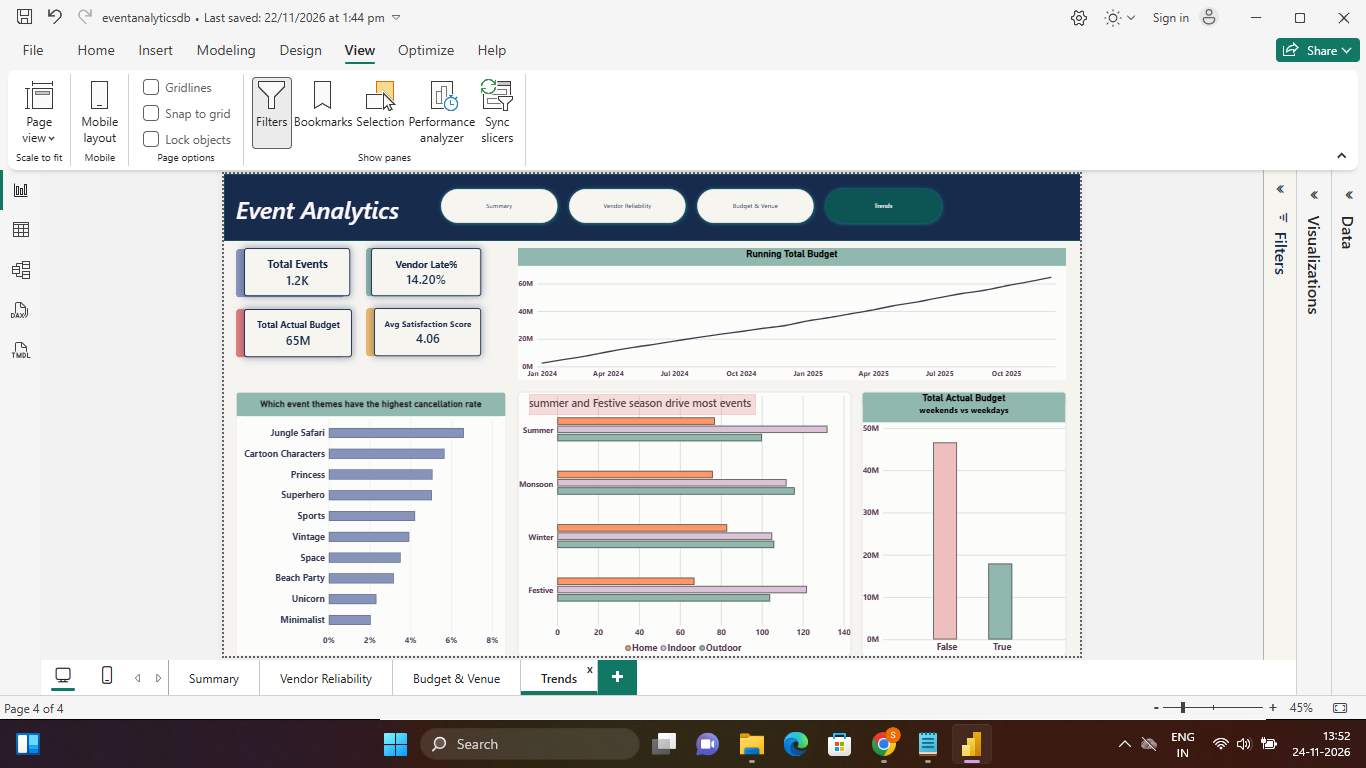

What the dashboard file says about the page in this screenshot:
{"tool":"powerbi","page":{"name":"Trends","canvas":[1920,1080],"ordinal":3},"visuals":[{"type":"shape","box":[26.9,302.5,242.6,108.5],"z":0},{"type":"shape","box":[26.9,168,242.6,108.5],"z":1000},{"type":"shape","box":[318.2,165.8,238.3,108.5],"z":2000},{"type":"shape","box":[318.2,300.2,242.6,108.5],"z":3000},{"type":"clusteredColumnChart","title":"Total Actual Budget","fields":{"Category":["events.is_weekend"],"Y":["event_Measures.Total Budget Actual"]},"box":[1429.5,488.5,457.1,591.5],"z":4000},{"type":"lineChart","title":"Running Total Budget","fields":{"Category":["events.Event Month Date"],"Y":["event_Measures.Running Total Budget"]},"box":[658.8,165.8,1227.9,295.8],"z":5000},{"type":"shape","box":[0,0,3540,150],"z":6000},{"type":"pageNavigator","box":[477.3,24.6,1142.7,94.1],"z":7000},{"type":"textbox","box":[26.9,42.6,398.8,76.2],"z":8000},{"type":"cardVisual","fields":{"Data":["event_Measures.Vendor Late %"]},"box":[329.4,165.8,246.9,108],"z":9000},{"type":"cardVisual","fields":{"Data":["event_Measures.Total Events"]},"box":[44.8,165.8,238,108],"z":10000},{"type":"cardVisual","fields":{"Data":["event_Measures.Total Budget Actual"]},"box":[44.8,302.5,242,108],"z":11000},{"type":"cardVisual","fields":{"Data":["event_Measures.Avg Satisfaction Score"]},"box":[336.1,300.2,240.2,108],"z":12000},{"type":"clusteredBarChart","title":"Summer and festive drive most events","fields":{"Category":["events.season"],"Series":["events.venue_type"],"Y":["event_Measures.Total Events"]},"box":[658.8,488.5,746.1,591.5],"z":13000},{"type":"textbox","box":[683.4,495.2,524.3,44.8],"z":14000},{"type":"shape","box":[683.4,492.9,508.6,47.1],"z":15000},{"type":"clusteredBarChart","title":"Which event themes have the highest cancellation rate","fields":{"Category":["events.theme"],"Y":["event_Measures.Cancellation Rate"]},"box":[26.9,488.5,605,591.5],"z":15001}]}

Visuals, with their boxes on the page's 1920x1080 design canvas (x1, y1, x2, y2). These are canvas units, not pixel positions in the 1366x768 screenshot, which may show the page scaled, cropped or inside an application window:
shape: bbox(27, 302, 270, 411)
shape: bbox(27, 168, 270, 276)
shape: bbox(318, 166, 556, 274)
shape: bbox(318, 300, 561, 409)
"Total Actual Budget" clusteredColumnChart: bbox(1430, 488, 1887, 1080)
"Running Total Budget" lineChart: bbox(659, 166, 1887, 462)
shape: bbox(0, 0, 3540, 150)
pageNavigator: bbox(477, 25, 1620, 119)
textbox: bbox(27, 43, 426, 119)
cardVisual - event_Measures.Vendor Late %: bbox(329, 166, 576, 274)
cardVisual - event_Measures.Total Events: bbox(45, 166, 283, 274)
cardVisual - event_Measures.Total Budget Actual: bbox(45, 302, 287, 410)
cardVisual - event_Measures.Avg Satisfaction Score: bbox(336, 300, 576, 408)
"Summer and festive drive most events" clusteredBarChart: bbox(659, 488, 1405, 1080)
textbox: bbox(683, 495, 1208, 540)
shape: bbox(683, 493, 1192, 540)
"Which event themes have the highest cancellation rate" clusteredBarChart: bbox(27, 488, 632, 1080)
